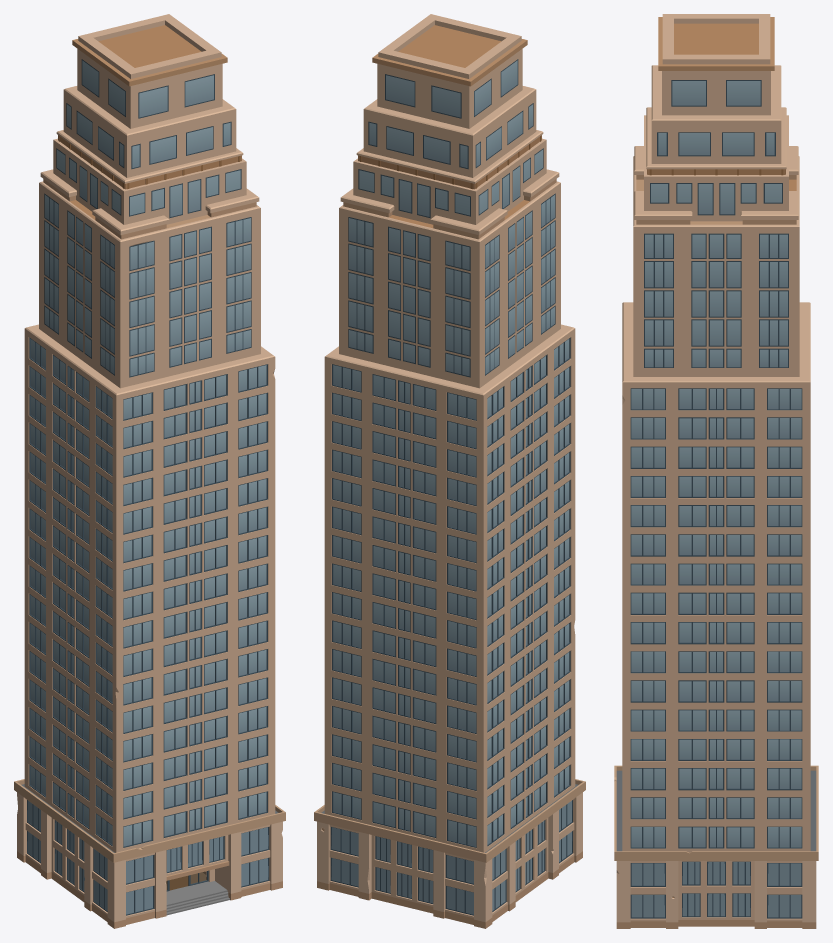
Rendered from SM_Buildings_Skyscraper_06.fbx.
The picture shows the model from 3 angles, left to right: view 1: azimuth 30°, elevation 25°; view 2: azimuth 150°, elevation 25°; view 3: azimuth 270°, elevation 25°; orthographic projection. The views are drawn at different scales.
Parts seen in each view (by area): view 1: SM_Buildings_Skyscraper_06; view 2: SM_Buildings_Skyscraper_06; view 3: SM_Buildings_Skyscraper_06.
Boxes of the visible parts, x1=… form: SM_Buildings_Skyscraper_06: x1=14, y1=14, x2=285, y2=928; SM_Buildings_Skyscraper_06: x1=314, y1=14, x2=585, y2=928; SM_Buildings_Skyscraper_06: x1=614, y1=14, x2=818, y2=928.
Bounding box in the file's own units: 19 × 87.29 × 19.
